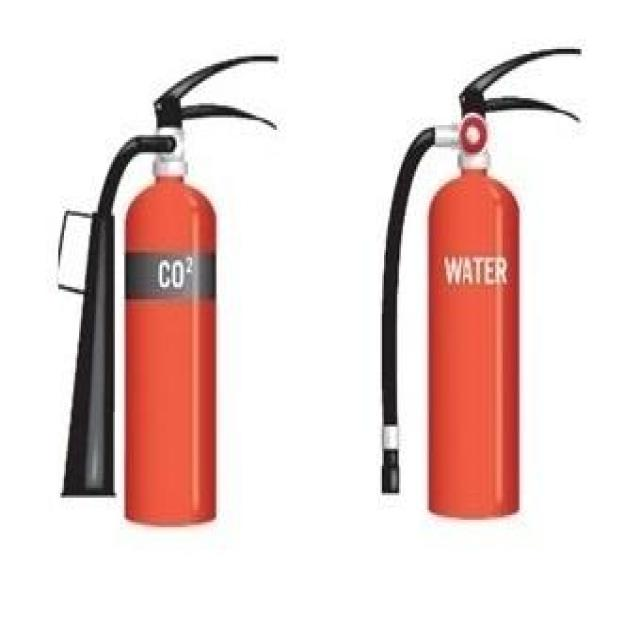fire_extinguisher: (48, 49, 280, 532), (372, 39, 584, 525)
